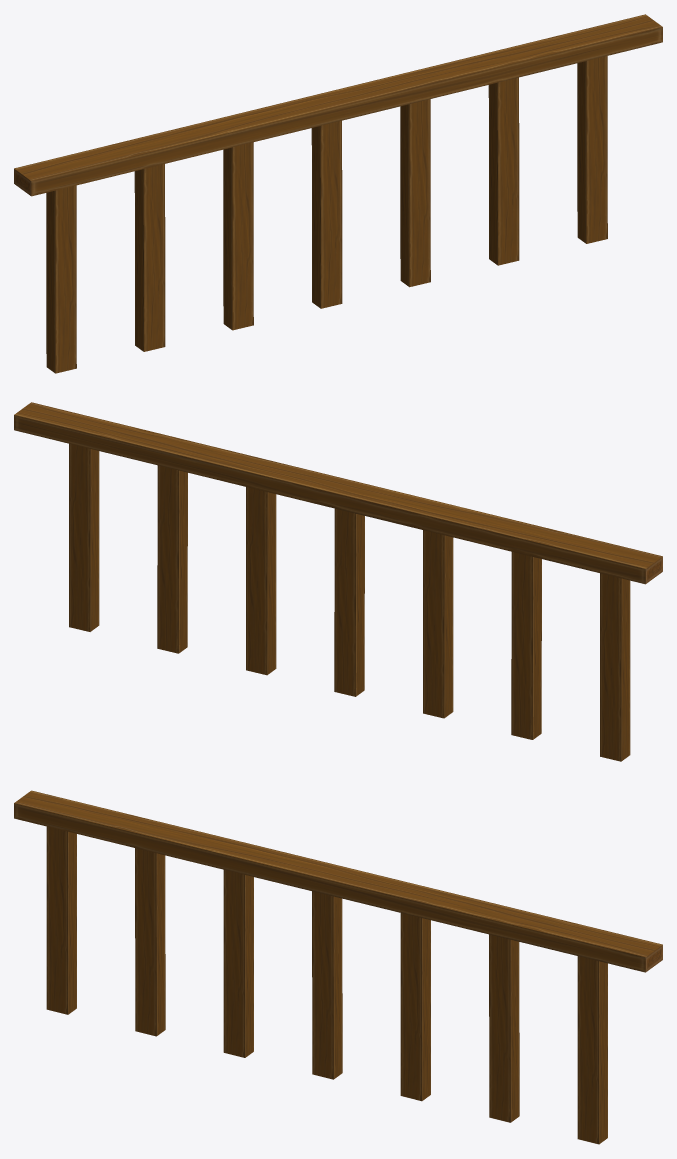
The model's file is SM_Stairs_Interior_C_Handrails_Top_01.fbx.
The picture shows the model from 3 angles, top to bottom: view 1: azimuth 30°, elevation 25°; view 2: azimuth 150°, elevation 25°; view 3: azimuth 330°, elevation 25°; orthographic projection.
Visible parts, largest first — view 1: SM_Stairs_Interior_C_Handrails_Top_01; view 2: SM_Stairs_Interior_C_Handrails_Top_01; view 3: SM_Stairs_Interior_C_Handrails_Top_01.
Boxes of the visible parts, x1,y1,x2,y2 form: SM_Stairs_Interior_C_Handrails_Top_01: (14,14,662,373); SM_Stairs_Interior_C_Handrails_Top_01: (14,402,662,761); SM_Stairs_Interior_C_Handrails_Top_01: (14,790,662,1144).
Bounding box in the file's own units: 2.99 × 0.9176 × 0.1425.
